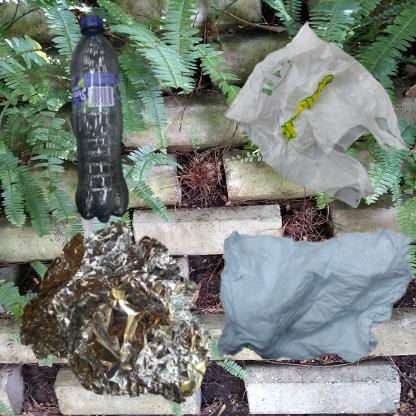aluminio: (10, 213, 219, 416)
bolsa: (213, 10, 416, 226)
botella: (10, 10, 225, 278)
papel: (213, 213, 416, 376)
